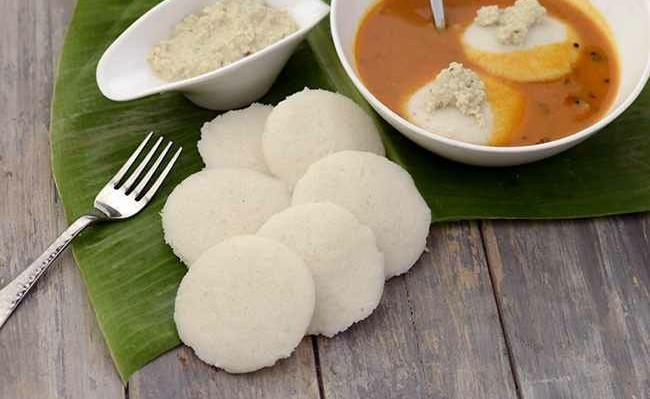Idli: (173, 235, 314, 373), (290, 153, 433, 278), (250, 204, 384, 336), (162, 166, 293, 268), (264, 89, 385, 181), (401, 69, 525, 145), (462, 14, 580, 81), (197, 101, 274, 181)
